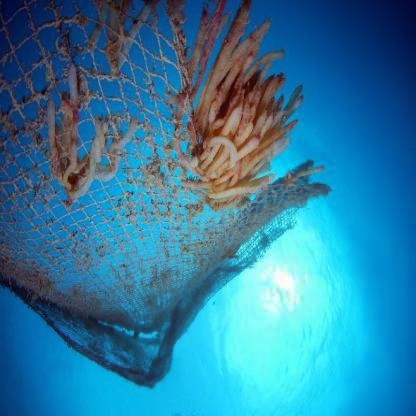net: (0, 7, 300, 395)
